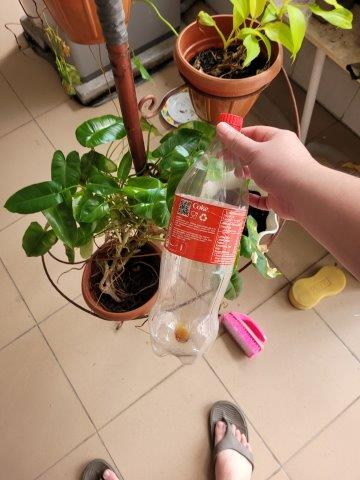botolplastik: (148, 113, 250, 367)
